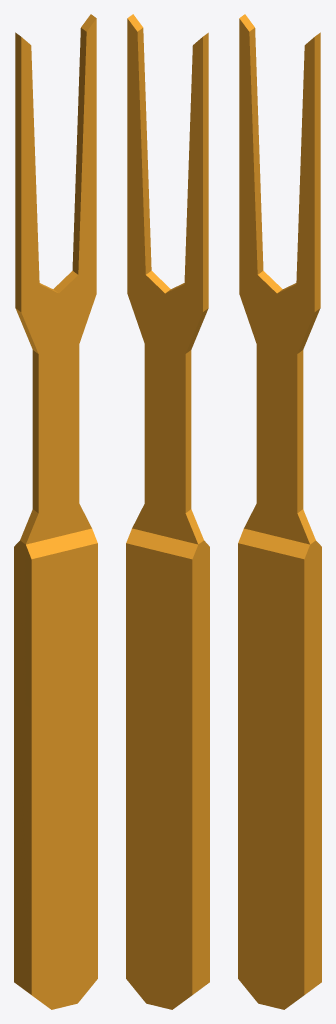
File: SM_Fork_4july.fbx
The picture shows the model from 3 angles, left to right: view 1: azimuth 30°, elevation 25°; view 2: azimuth 150°, elevation 25°; view 3: azimuth 330°, elevation 25°; orthographic projection.
Parts seen in each view (by area): view 1: fork-4july; view 2: fork-4july; view 3: fork-4july.
Part boxes in pixels (<box>): fork-4july: <box>14,14,97,1009</box>; fork-4july: <box>126,14,209,1009</box>; fork-4july: <box>238,14,321,1009</box>.
Bounding box in the file's own units: 0.0375 × 0.4631 × 0.015.
